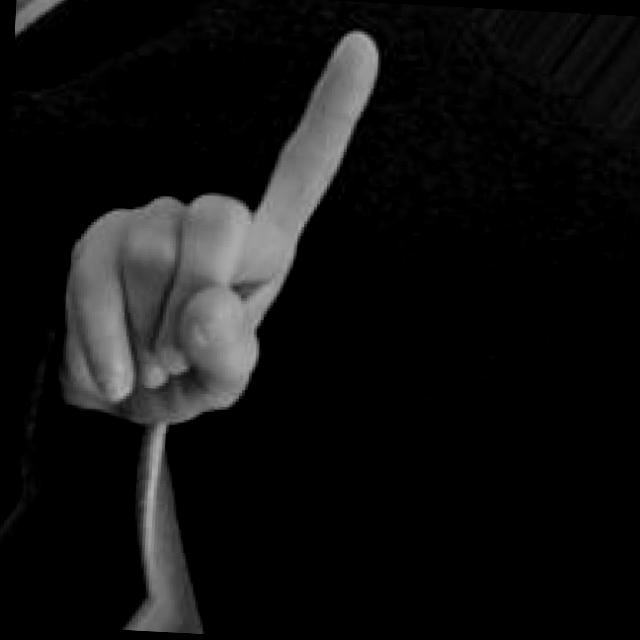I: (42, 4, 390, 444)
